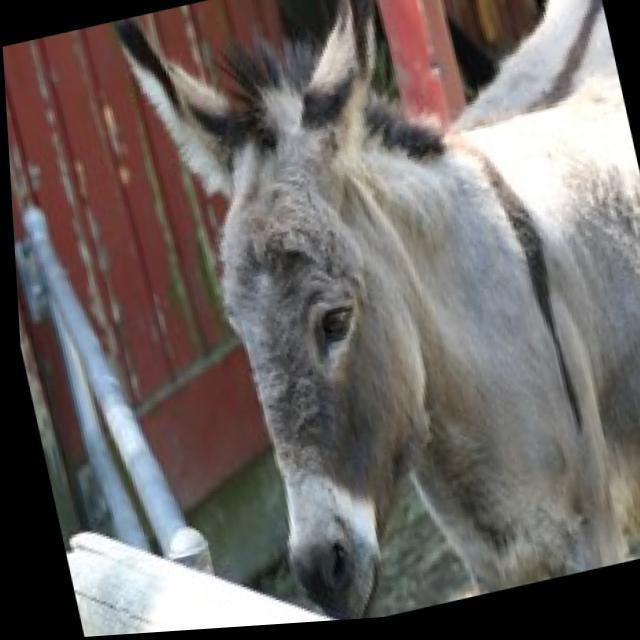Donkey: (106, 0, 640, 634)
